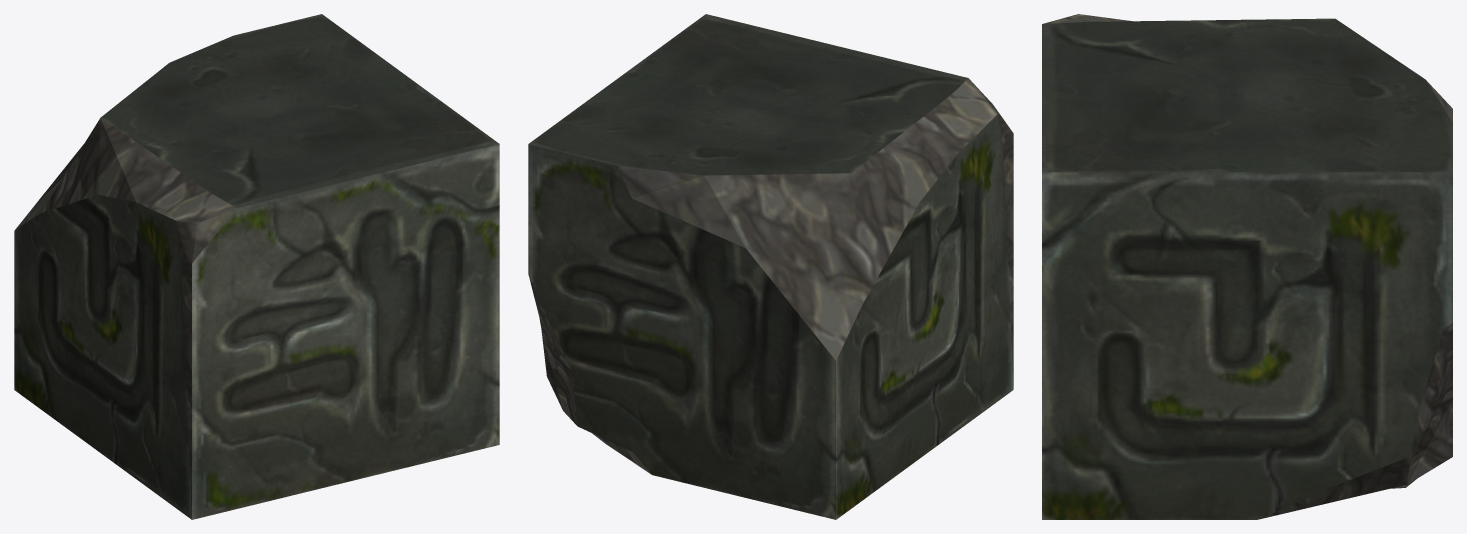
File: F_tuten003.fbx
3 renders of one model, left to right at view 1: azimuth 30°, elevation 25°; view 2: azimuth 150°, elevation 25°; view 3: azimuth 270°, elevation 25°, orthographic. The views are drawn at different scales.
Parts seen in each view (by area): view 1: F_tuten003; view 2: F_tuten003; view 3: F_tuten003.
Part boxes in pixels (<box>): F_tuten003: <box>14,14,499,519</box>; F_tuten003: <box>528,14,1013,519</box>; F_tuten003: <box>1042,14,1452,519</box>.
Size of the model in its own units: 75.36 by 70.36 by 75.34.
